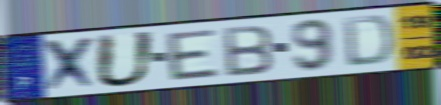9: (290, 17, 336, 73)
B: (220, 23, 276, 79)
D: (341, 14, 395, 69)
E: (163, 27, 221, 82)
U: (93, 30, 158, 90)
X: (42, 34, 99, 95)
